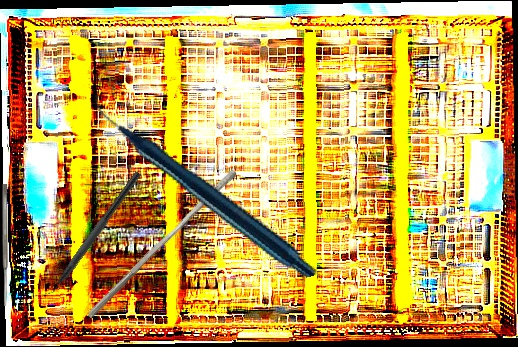Chopper: (35, 164, 142, 306)
Handpiece: (92, 49, 319, 321)
Pusher: (85, 162, 239, 326)
Spatula Surgical: (2, 184, 8, 306)
